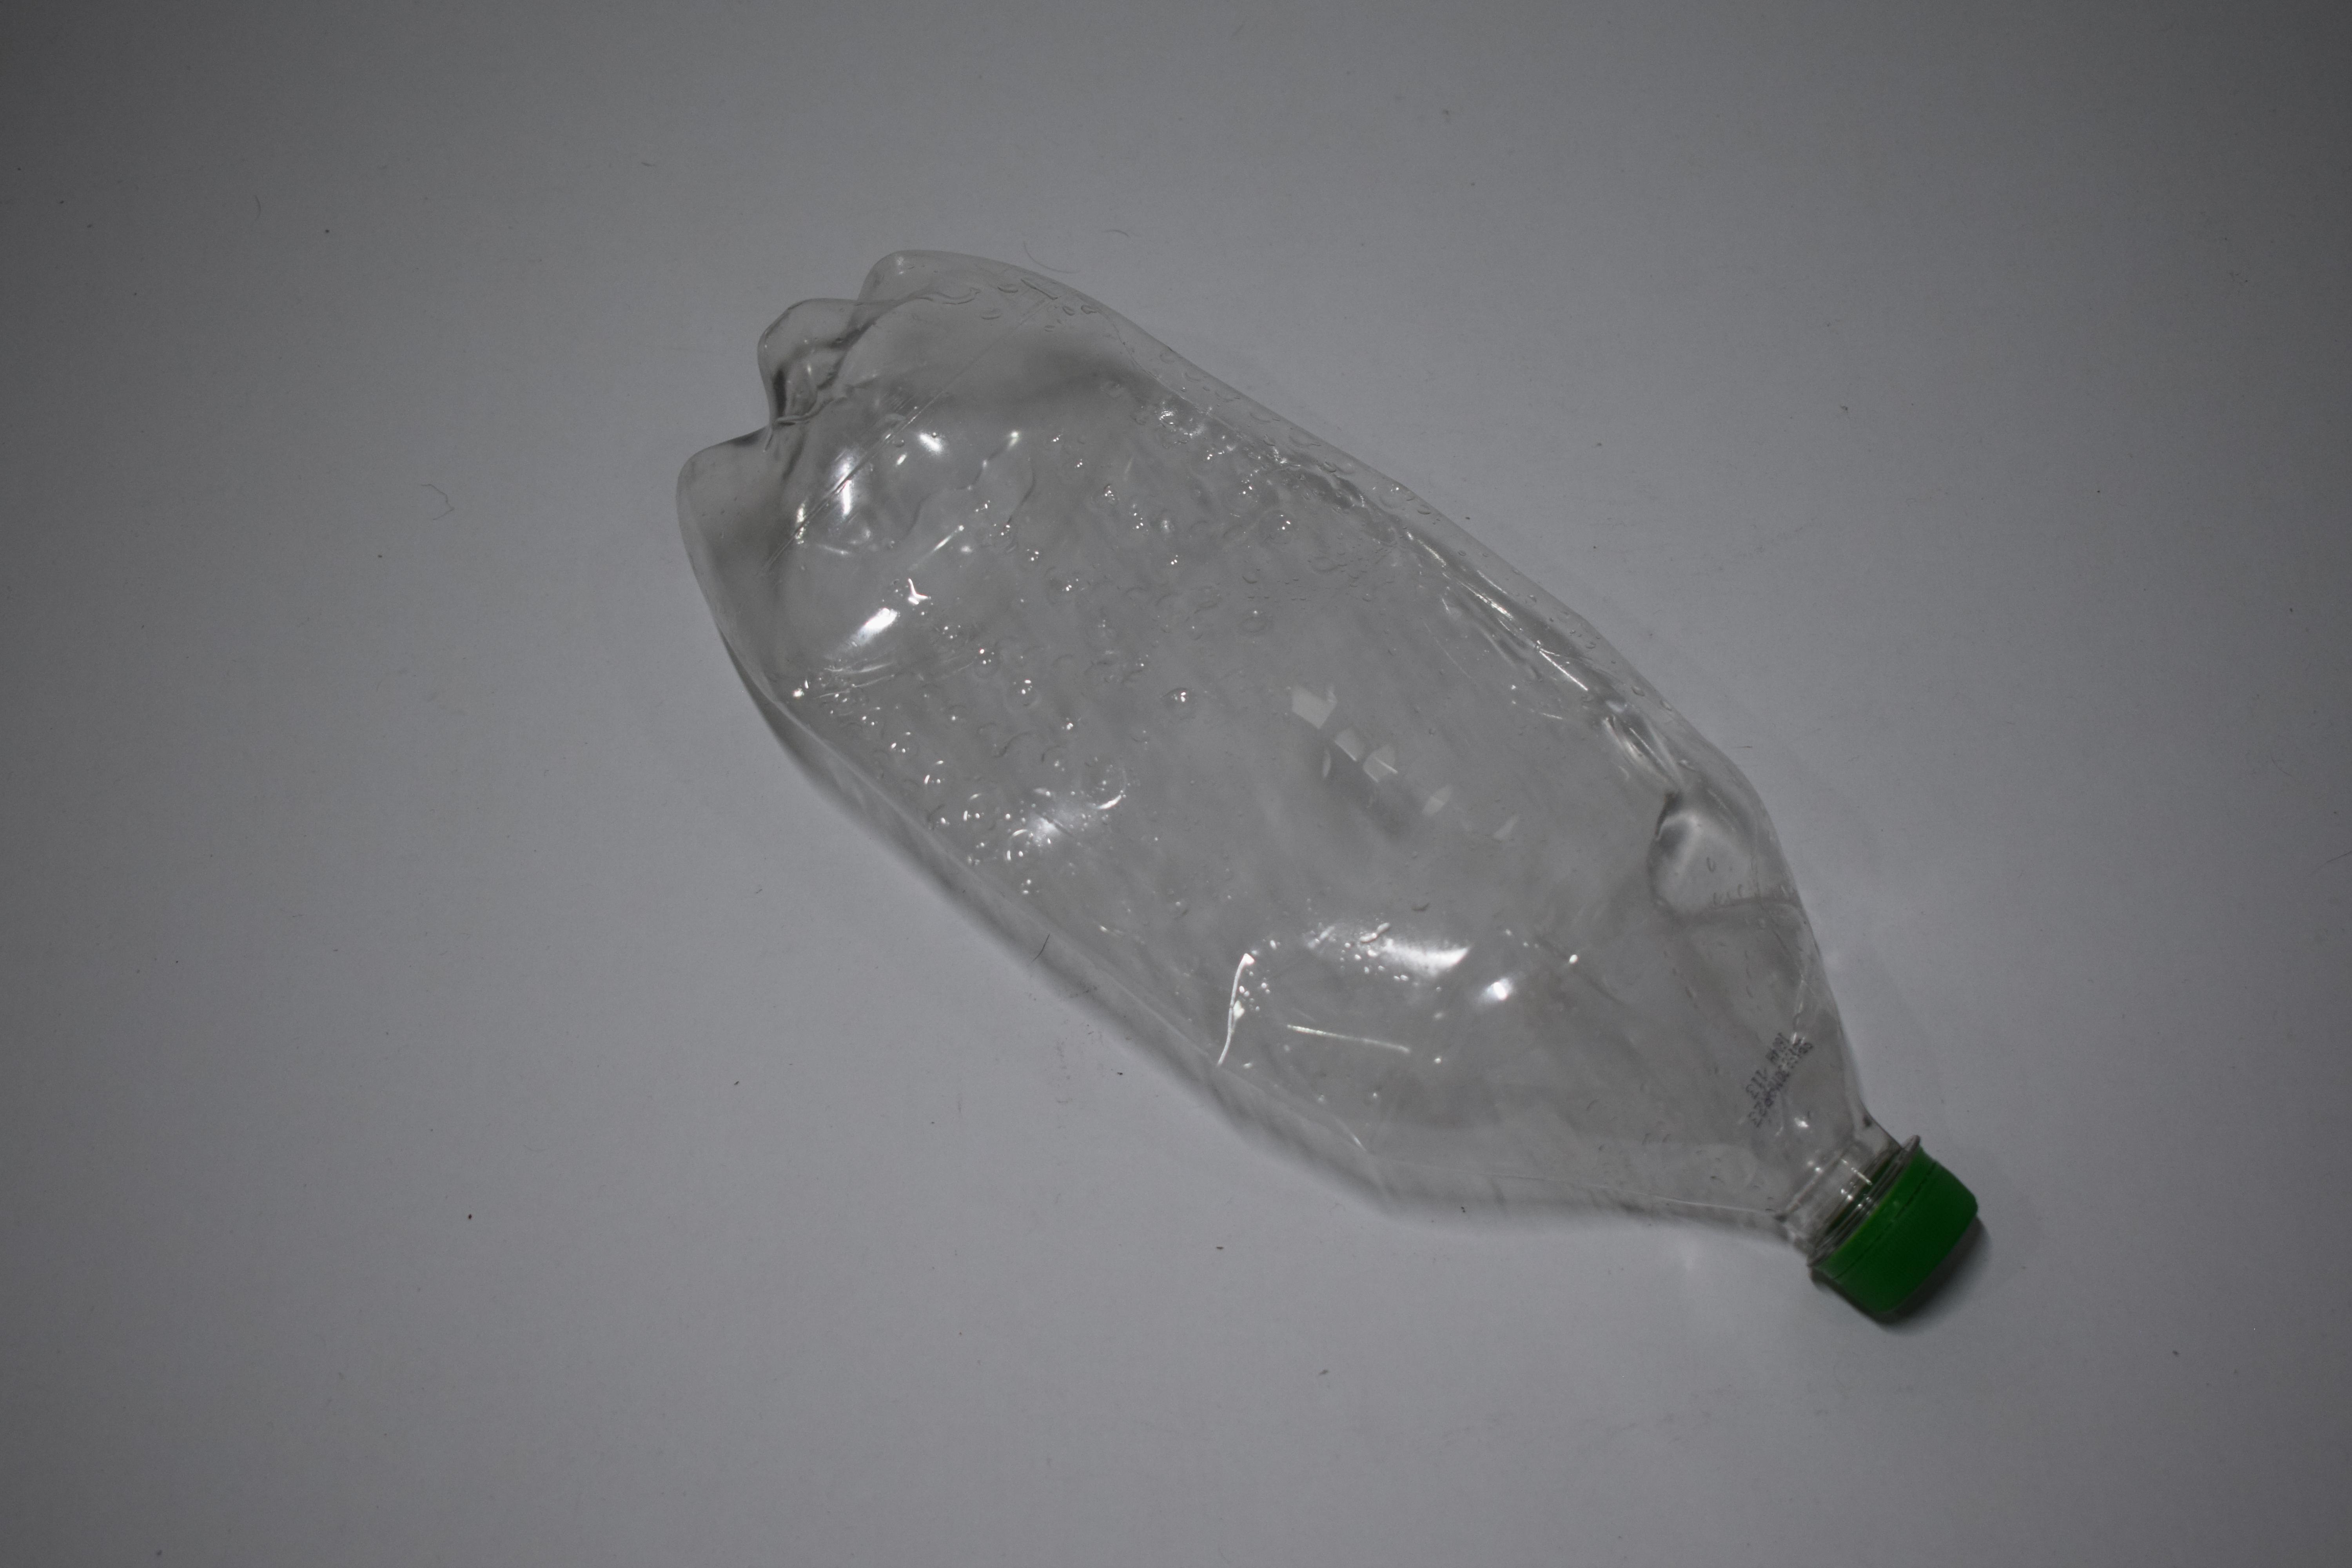bottle: (133, 0, 149, 549)
